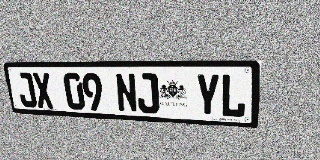0: (62, 73, 85, 110)
9: (81, 73, 104, 111)
J: (136, 73, 159, 114), (15, 73, 38, 108)
L: (220, 74, 247, 118)
N: (114, 73, 138, 113)
X: (32, 73, 54, 109)
Y: (195, 73, 220, 117)
